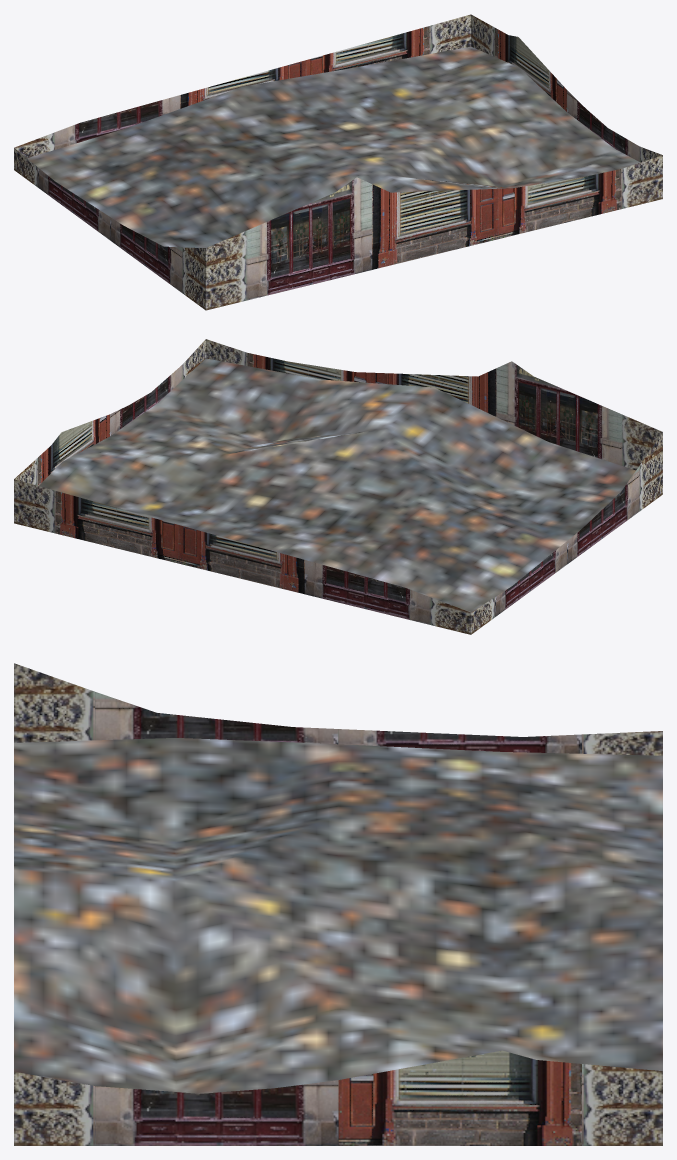
File: House_012_destroyed_001.dae
The picture shows the model from 3 angles, top to bottom: view 1: azimuth 30°, elevation 25°; view 2: azimuth 150°, elevation 25°; view 3: azimuth 270°, elevation 25°; orthographic projection. The views are drawn at different scales.
Parts seen in each view (by area): view 1: House_012; view 2: House_012; view 3: House_012.
Part boxes in pixels (x1,y1,x2,y2): House_012: (14, 14, 662, 310); House_012: (14, 339, 662, 634); House_012: (14, 663, 662, 1145).
Bounding box in the file's own units: 88 × 64 × 17.73.
Materials: 1 (1 with a texture image).
